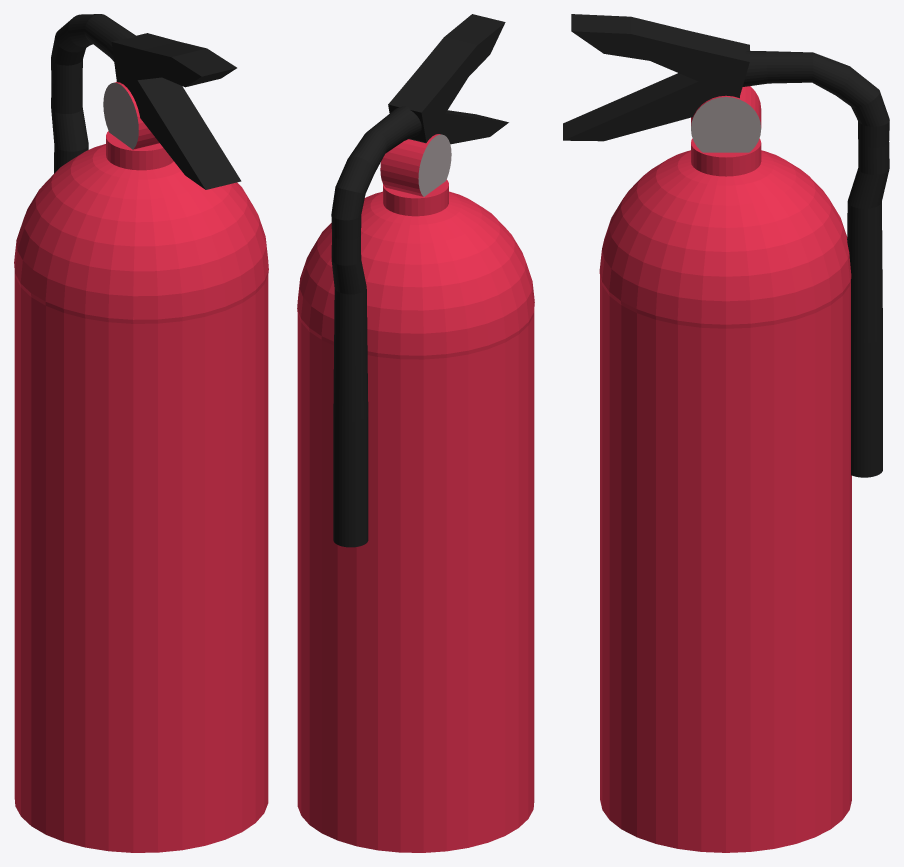
The model's file is Extinguisher.fbx.
3 views of the same model, side by side, from view 1: azimuth 30°, elevation 25°; view 2: azimuth 150°, elevation 25°; view 3: azimuth 270°, elevation 25° (orthographic). The views are drawn at different scales.
Parts seen in each view (by area): view 1: Extinguisher; view 2: Extinguisher; view 3: Extinguisher.
Boxes of the visible parts, bbox=[...] form: Extinguisher: bbox=[14, 14, 268, 852]; Extinguisher: bbox=[297, 14, 534, 852]; Extinguisher: bbox=[563, 14, 889, 852].
Size of the model in its own units: 205 by 694 by 264.
